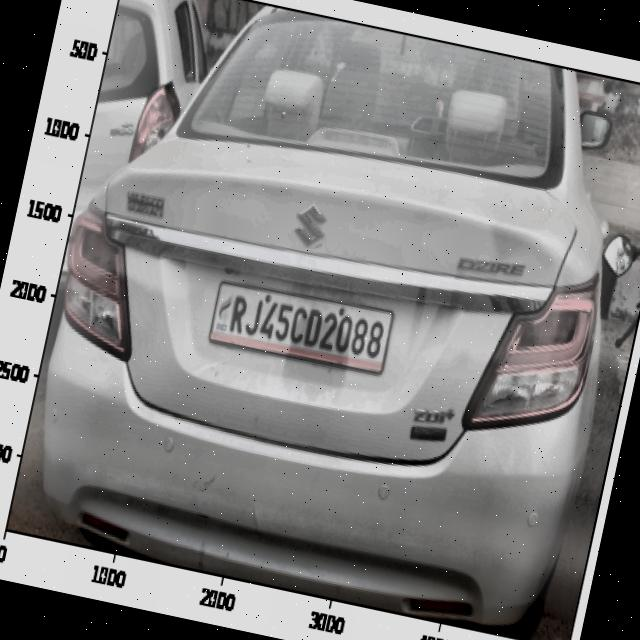license_plate: (216, 281, 394, 374)
